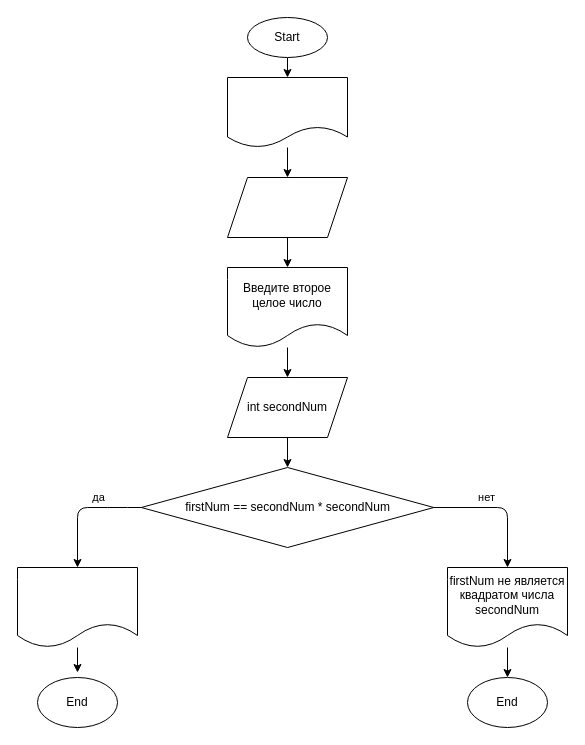
The diagram is 585 pixels wide and 745 high, and some of its shapes have lost their labels. The box of each missing label's shape, as (x1, y1, x2, y2) in pixels:
firstNum является квадратом числа secondNum: (16, 566, 138, 648)
int firstNum: (226, 176, 348, 238)
Введите целое число: (226, 76, 348, 148)
